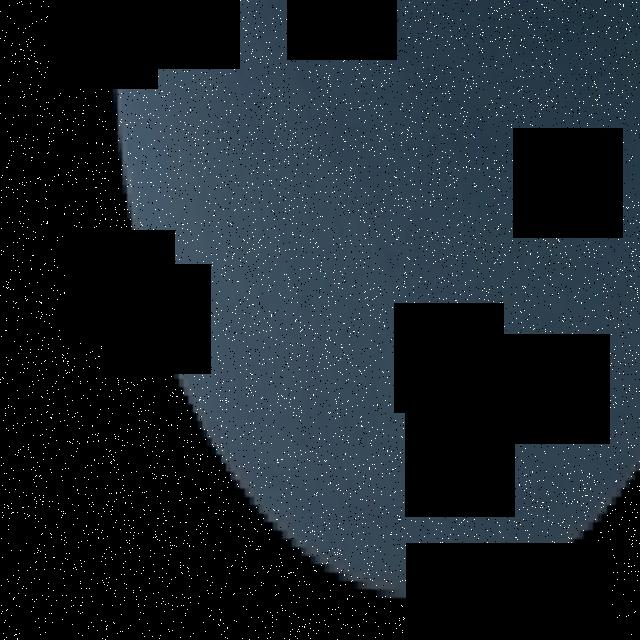Uranus: (108, 0, 640, 598)
